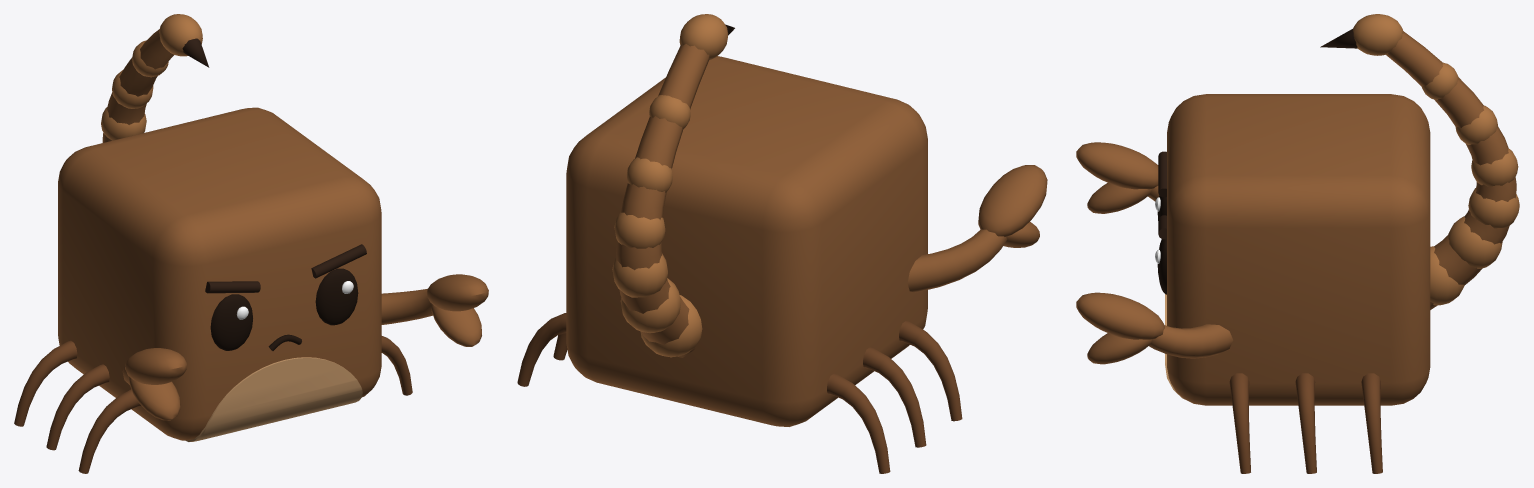
File: Scorpion.glb
The picture shows the model from 3 angles, left to right: view 1: azimuth 30°, elevation 25°; view 2: azimuth 150°, elevation 25°; view 3: azimuth 270°, elevation 25°; orthographic projection. The views are drawn at different scales.
Parts seen in each view (by area): view 1: Scorpion; view 2: Scorpion; view 3: Scorpion.
Boxes of the visible parts, x1,y1,x2,y2 form: Scorpion: (14, 14, 488, 473); Scorpion: (517, 14, 1047, 473); Scorpion: (1076, 14, 1519, 473).
Bounding box in the file's own units: 3.09 × 3.16 × 3.37.
1 material, 1 textured.
